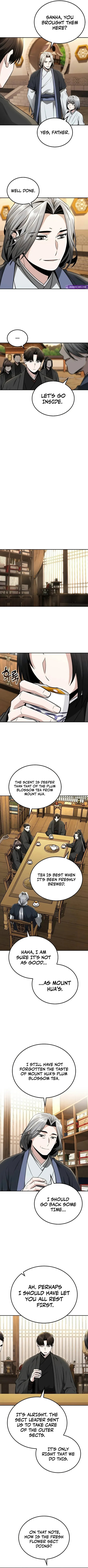bubbles: (7, 928, 80, 1005), (8, 764, 62, 820), (29, 851, 83, 902), (33, 1, 86, 50), (32, 377, 75, 418), (36, 115, 76, 148), (6, 176, 40, 209), (6, 329, 29, 350)
